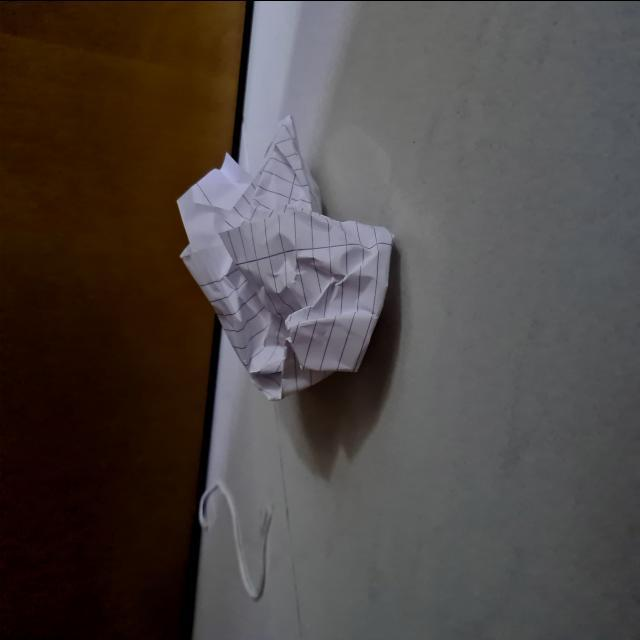Paper: (152, 83, 404, 419)
